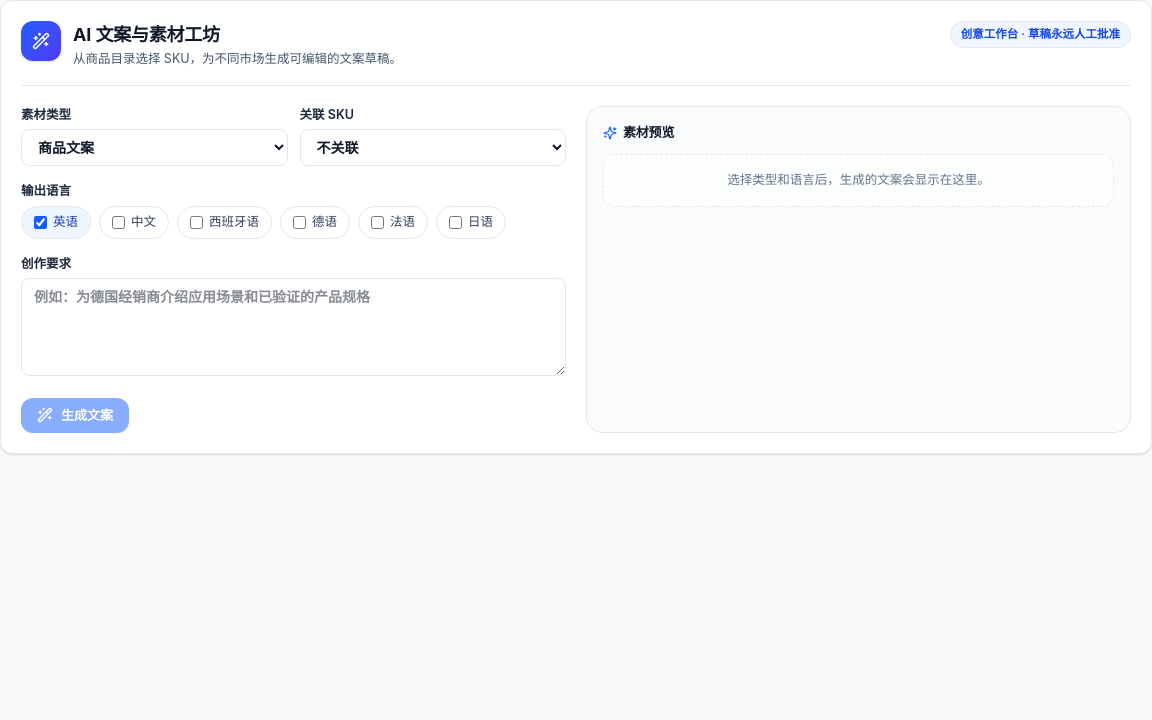
Scenario: AI workforce › shows failed generation without exposing backend error details
The width and height of the screenshot is (1152, 720).
Type "根据目录生成" into the text box labelled "创作要求" at (294, 327), box [21, 278, 566, 376]
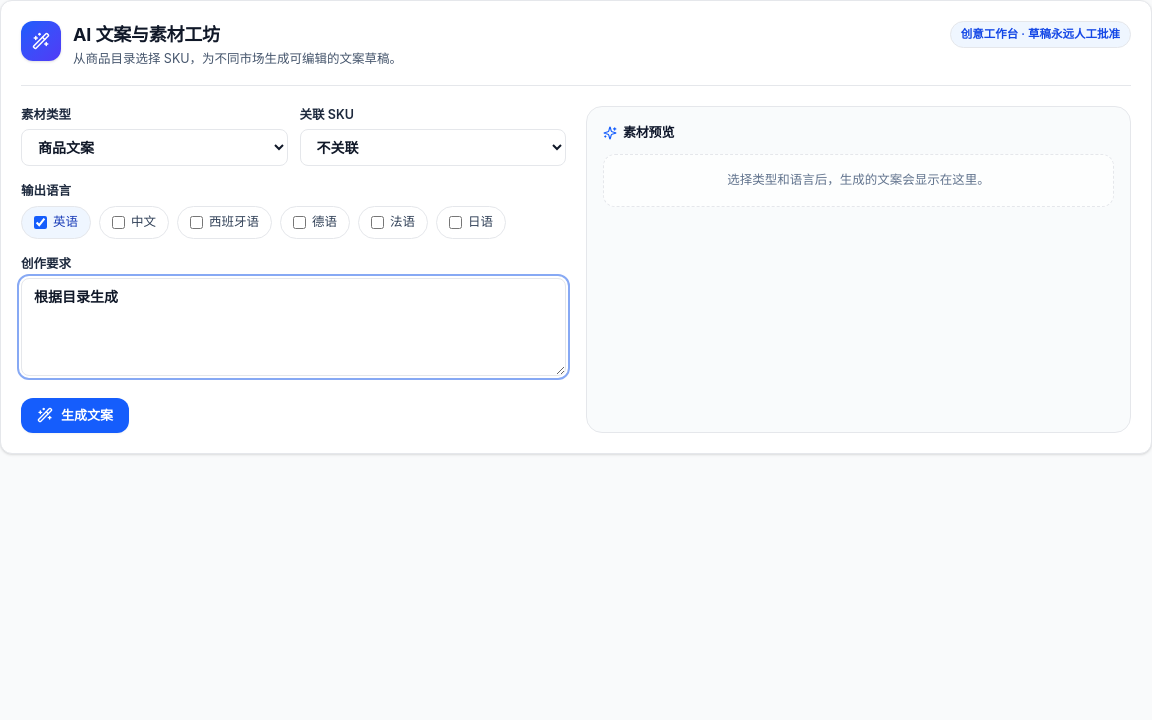
Click the button "生成文案" at (75, 415), box [21, 398, 129, 433]
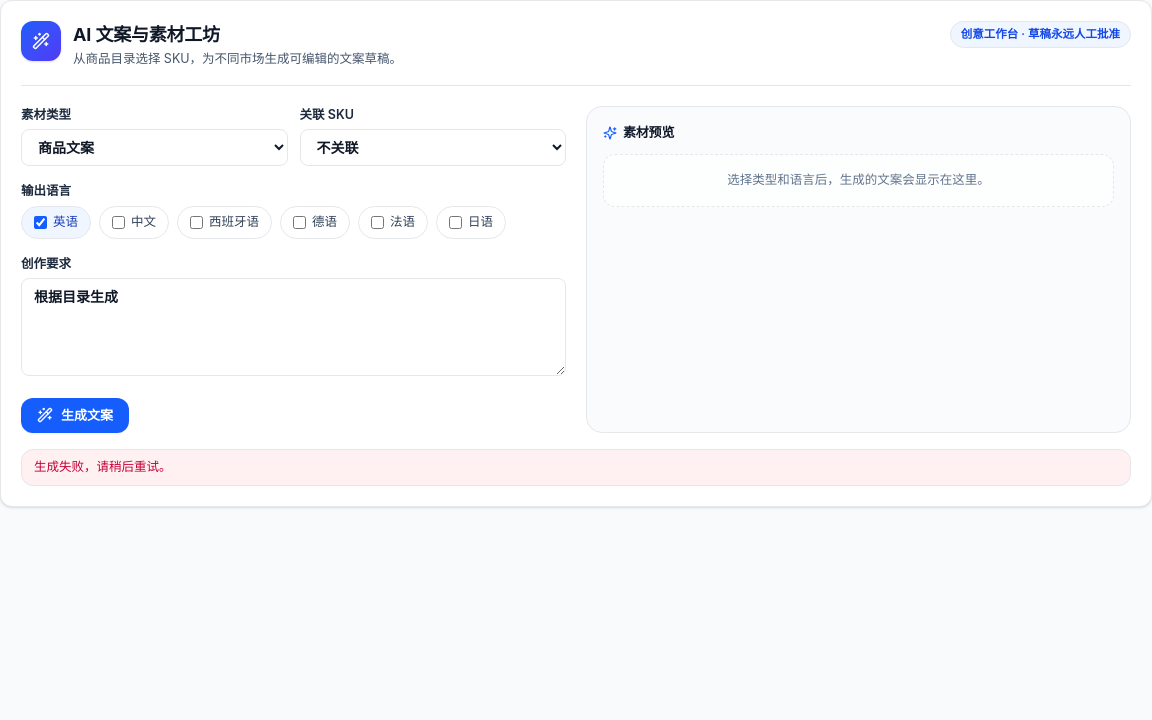
expect the message shows "生成失败": met, box [34, 459, 172, 474]
